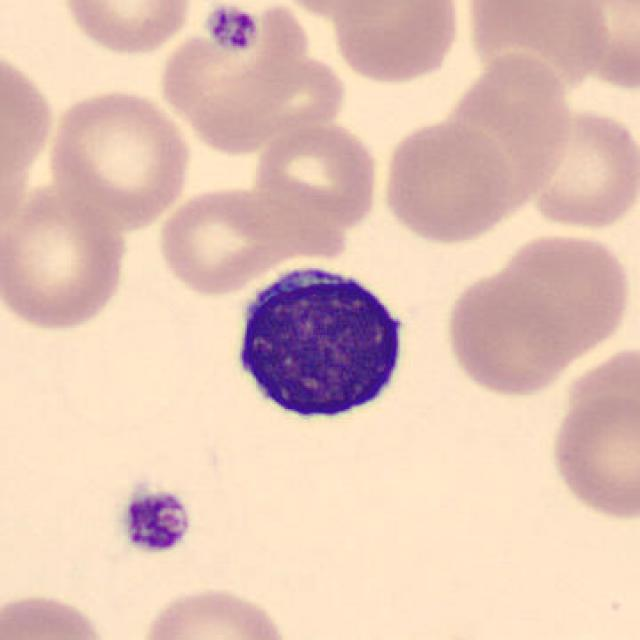Lymphocyte: (220, 254, 418, 435)
Platelets: (116, 483, 196, 559), (203, 2, 261, 56)
RBC: (155, 3, 341, 157), (42, 85, 196, 229), (0, 174, 133, 336), (494, 227, 635, 358), (379, 116, 517, 247), (442, 264, 572, 400), (154, 182, 306, 298), (461, 0, 618, 99), (249, 118, 384, 233), (523, 103, 638, 235), (546, 389, 638, 524), (0, 38, 57, 242), (329, 0, 464, 86), (133, 582, 297, 640), (57, 0, 195, 58), (556, 0, 639, 93), (0, 587, 117, 640), (272, 0, 421, 21)
